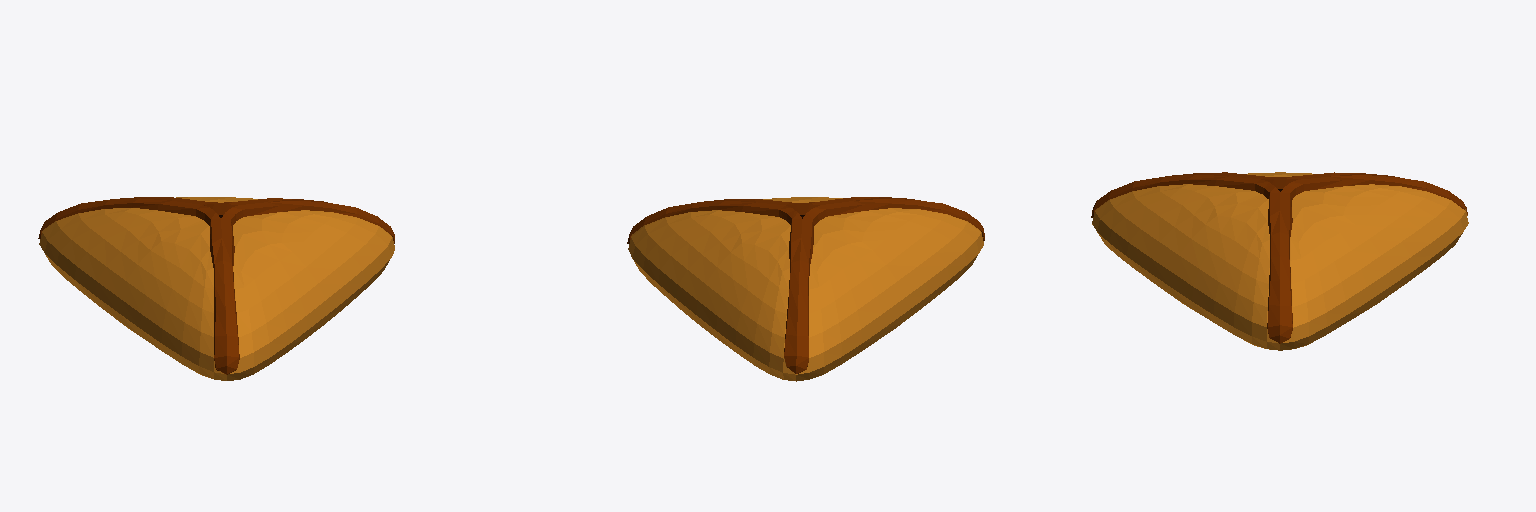
The model's file is Ech.obj.
3 renders of one model, left to right at view 1: azimuth 30°, elevation 25°; view 2: azimuth 150°, elevation 25°; view 3: azimuth 270°, elevation 25°, orthographic.
Visible parts, largest first — view 1: Cube_Cube.001; view 2: Cube_Cube.001; view 3: Cube_Cube.001.
Boxes of the visible parts, x1=… form: Cube_Cube.001: x1=38, y1=197, x2=394, y2=380; Cube_Cube.001: x1=627, y1=197, x2=984, y2=381; Cube_Cube.001: x1=1091, y1=172, x2=1468, y2=350.
Bounding box in the file's own units: 1.25 × 0.4896 × 1.48.